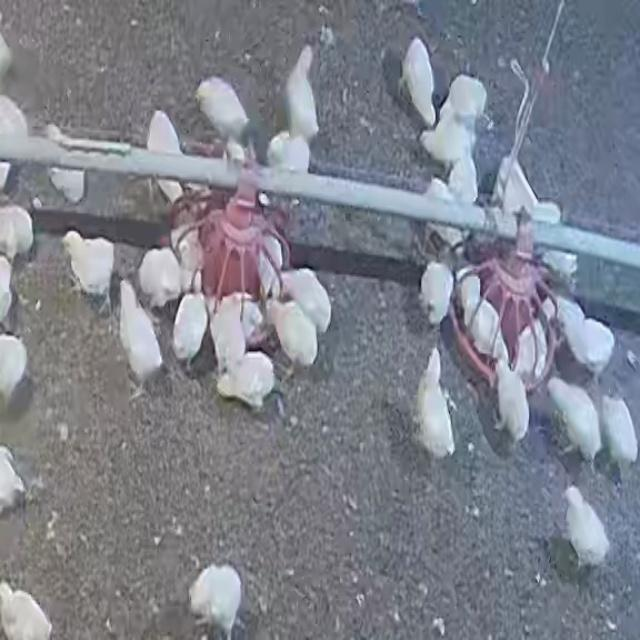chicken: (116, 280, 164, 395), (545, 377, 603, 465), (414, 348, 455, 459), (146, 111, 192, 209), (266, 296, 319, 379), (194, 76, 253, 150), (59, 230, 114, 309), (188, 564, 244, 640), (285, 42, 324, 151), (561, 486, 611, 570), (214, 348, 277, 412), (268, 129, 313, 218), (40, 123, 86, 205), (276, 268, 331, 336), (420, 104, 476, 170), (491, 354, 530, 448), (420, 173, 465, 254), (209, 295, 251, 378), (401, 36, 437, 128), (599, 393, 639, 475), (0, 580, 54, 640), (136, 246, 185, 312), (543, 278, 589, 343), (172, 292, 210, 367), (571, 310, 614, 372), (419, 260, 455, 326), (466, 297, 504, 359), (229, 285, 267, 347), (445, 73, 489, 125), (0, 203, 35, 262), (178, 225, 208, 293), (512, 318, 543, 382), (447, 151, 479, 207), (257, 232, 284, 290), (262, 213, 289, 271), (458, 271, 484, 326)
